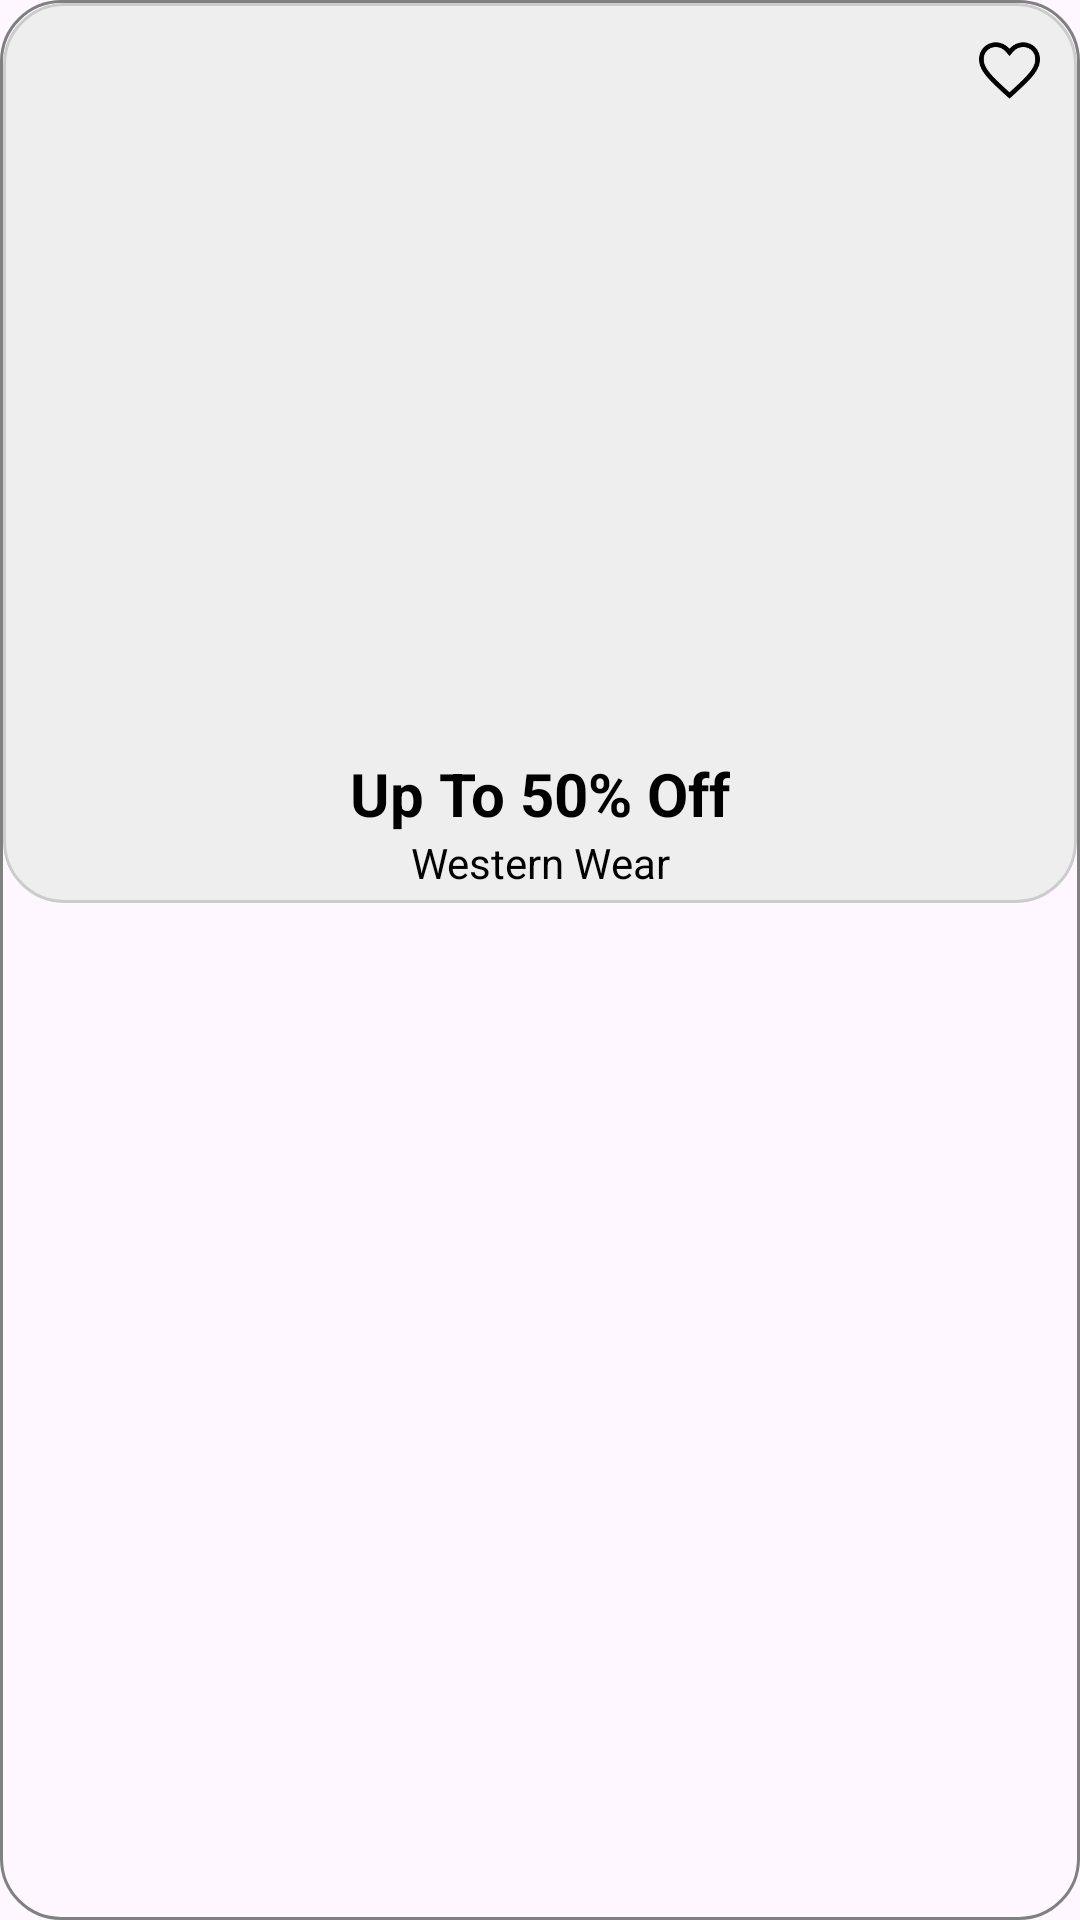

Point at icon controls on the screen. Image size 1080px x 1920px, points as (x=x, y=y).
heart: (x=1009, y=70)
